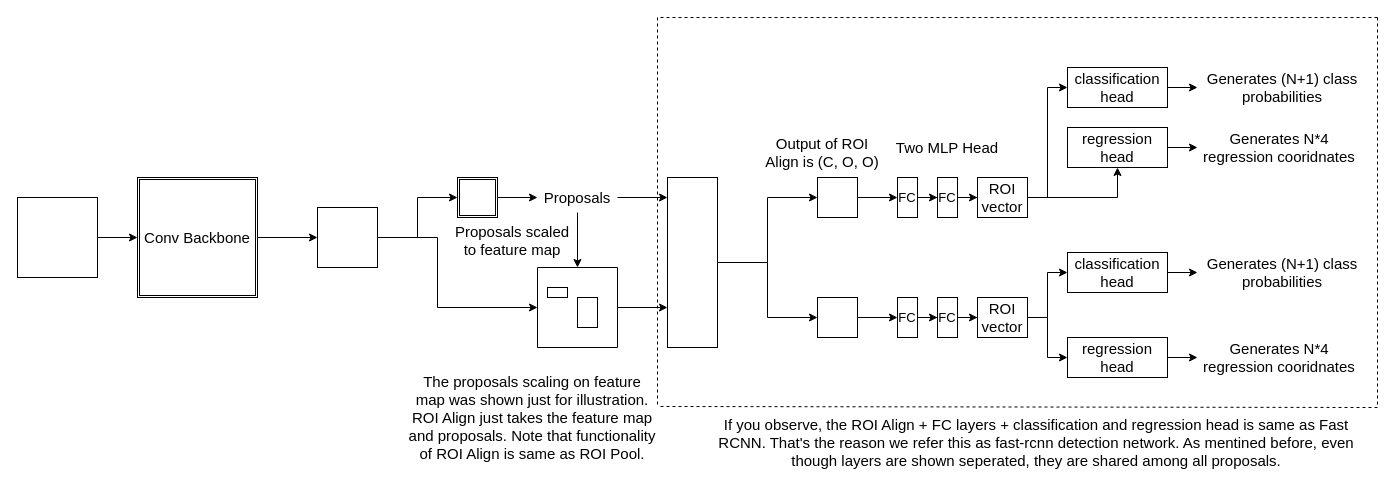
Some shapes in this 1396 by 495 pixel diagram are drawn without their labels. Each missing label, with the box of its shape:
Feature map: (316, 206, 378, 268)
Input Image: (16, 196, 98, 278)
ROI Align: (666, 176, 718, 348)
RPN: (456, 176, 498, 218)
